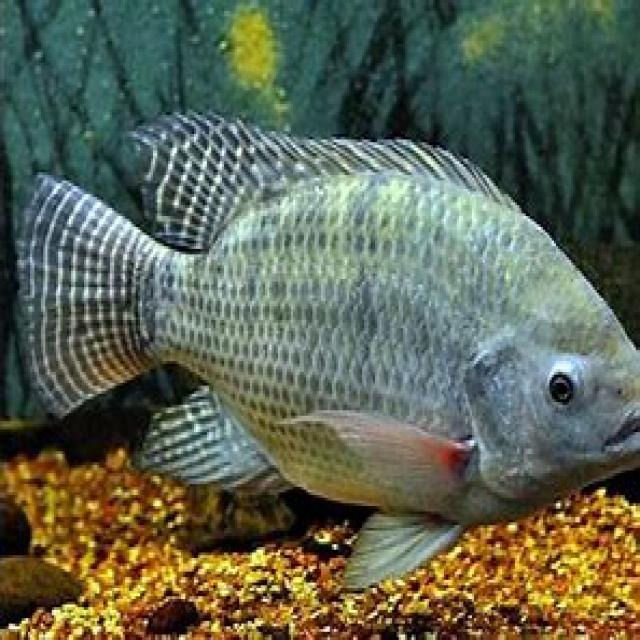Tilapia: (18, 108, 638, 587)
